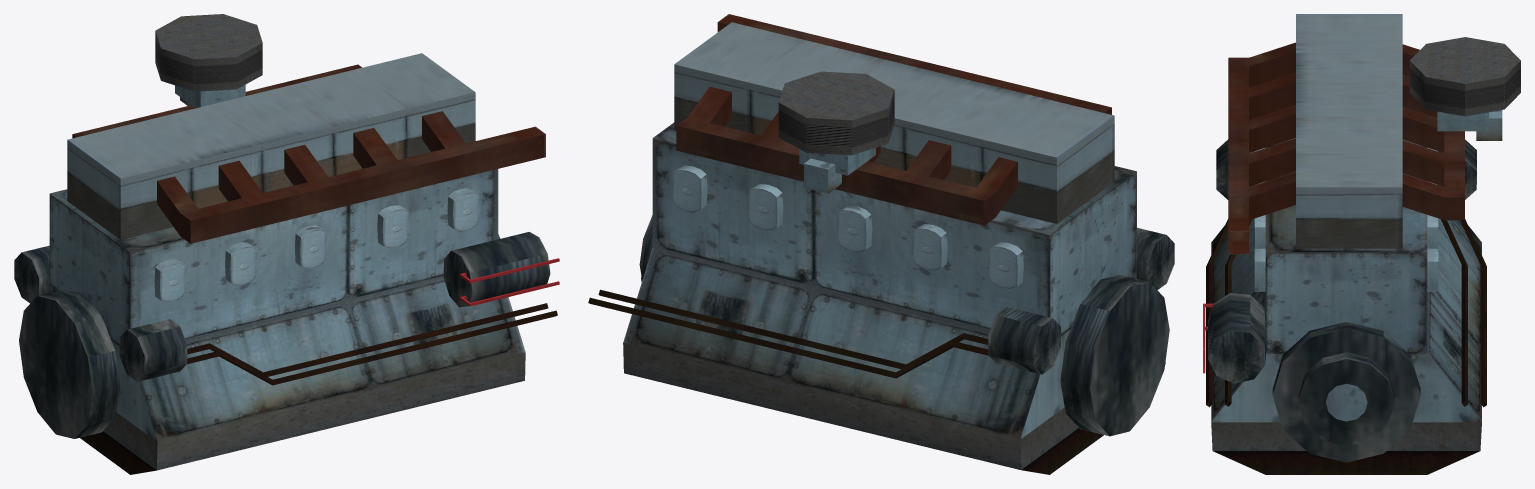
Rendered from Engine.obj.
3 renders of one model, left to right at view 1: azimuth 30°, elevation 25°; view 2: azimuth 150°, elevation 25°; view 3: azimuth 270°, elevation 25°, orthographic. The views are drawn at different scales.
Visible parts, largest first — view 1: mesh01; view 2: mesh01; view 3: mesh01.
Part boxes in pixels (x1,y1,x2,y2): mesh01: [14, 14, 559, 474]; mesh01: [588, 14, 1174, 474]; mesh01: [1203, 14, 1520, 474].
Size of the model in its own units: 1.6 by 1.14 by 1.02.
